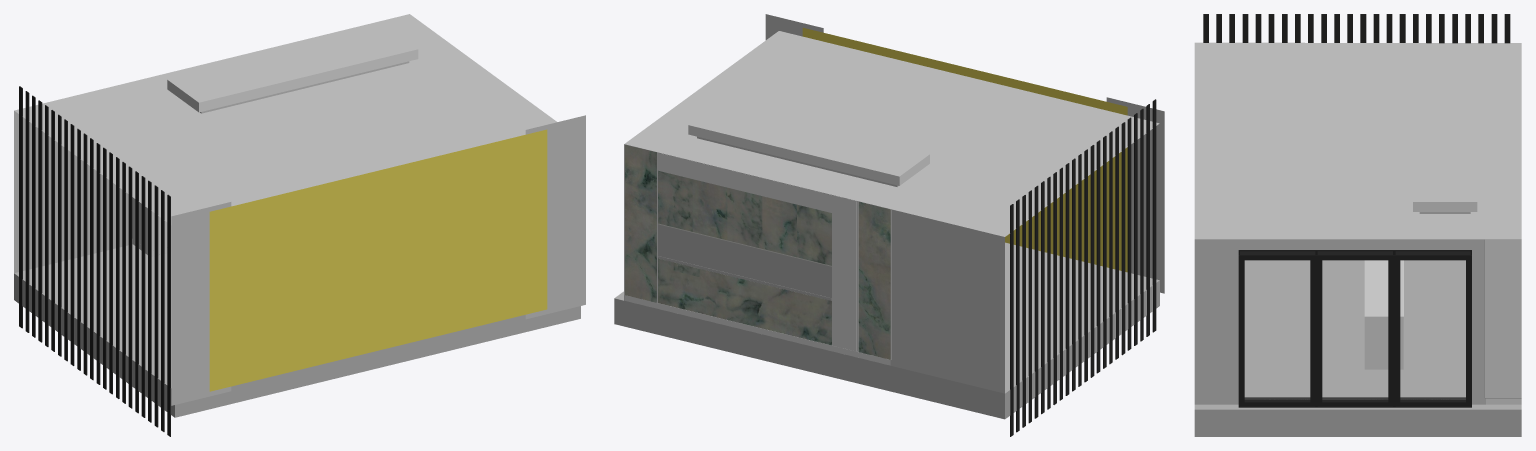
Rendered from Kitchen.fbx.
3 renders of one model, left to right at view 1: azimuth 30°, elevation 25°; view 2: azimuth 150°, elevation 25°; view 3: azimuth 270°, elevation 25°, orthographic. The views are drawn at different scales.
Parts seen in each view (by area): view 1: Wall, Paint wall, Black Rough Mat, Floor And Sink, Wooden Cab; view 2: Wall, Marble Mat, Floor And Sink, Black Rough Mat, Wooden Cab, Paint wall; view 3: Wall, Floor And Sink, Glass Mat, Black Rough Mat, Wooden Cab.
Part boxes in pixels (box(x1,y1,x2,y2)): Wall: box(14, 14, 585, 405); Paint wall: box(209, 129, 547, 391); Black Rough Mat: box(19, 86, 170, 436); Floor And Sink: box(14, 244, 580, 417); Wooden Cab: box(132, 197, 171, 256); Wall: box(624, 14, 1164, 393); Marble Mat: box(625, 144, 890, 359); Floor And Sink: box(614, 224, 1159, 419); Black Rough Mat: box(1010, 99, 1156, 436); Wooden Cab: box(624, 144, 891, 365); Paint wall: box(802, 27, 1127, 272); Wall: box(1194, 42, 1521, 404); Floor And Sink: box(1194, 260, 1521, 436); Glass Mat: box(1245, 261, 1465, 399); Black Rough Mat: box(1203, 14, 1510, 407); Wooden Cab: box(1364, 239, 1521, 404).
Bounding box in the file's own units: 1907 × 1055 × 1287.
